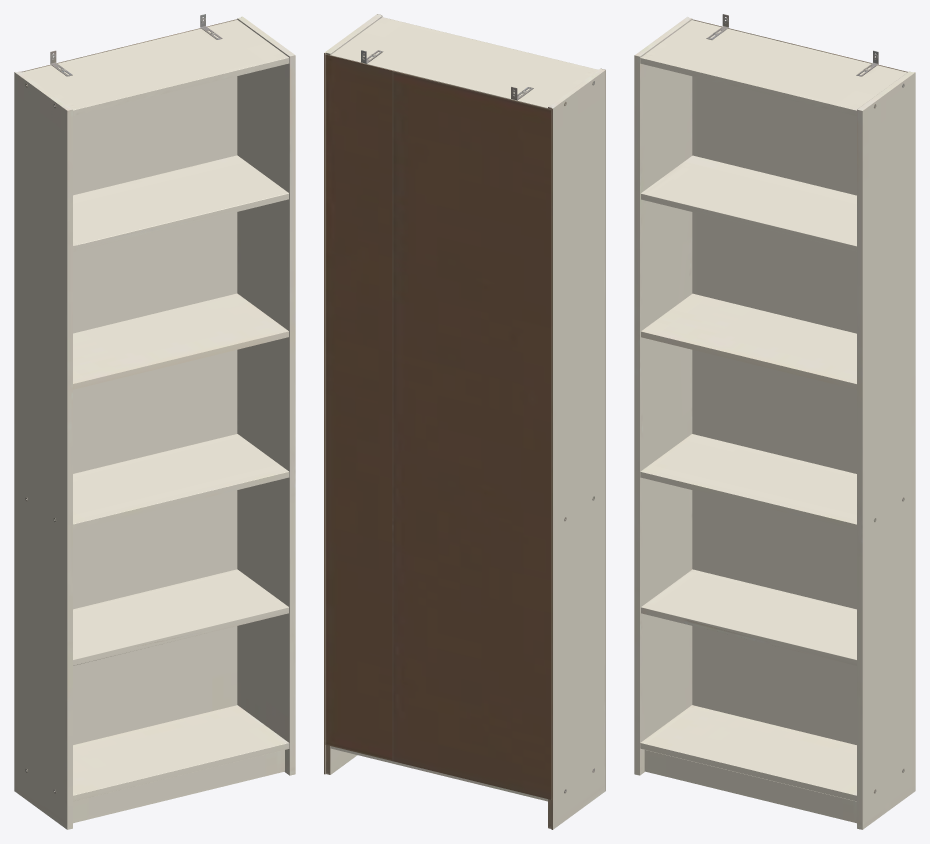
3 renders of one model, left to right at view 1: azimuth 30°, elevation 25°; view 2: azimuth 150°, elevation 25°; view 3: azimuth 330°, elevation 25°, orthographic.
Parts seen in each view (by area): view 1: Mesh_0; view 2: Mesh_0; view 3: Mesh_0.
Boxes of the visible parts, x1,y1,x2,y2 form: Mesh_0: (14,14,295,829); Mesh_0: (324,14,605,829); Mesh_0: (634,14,915,829).
Size of the model in its own units: 0.5993 by 1.83 by 0.2403.
1 material, 1 textured.
